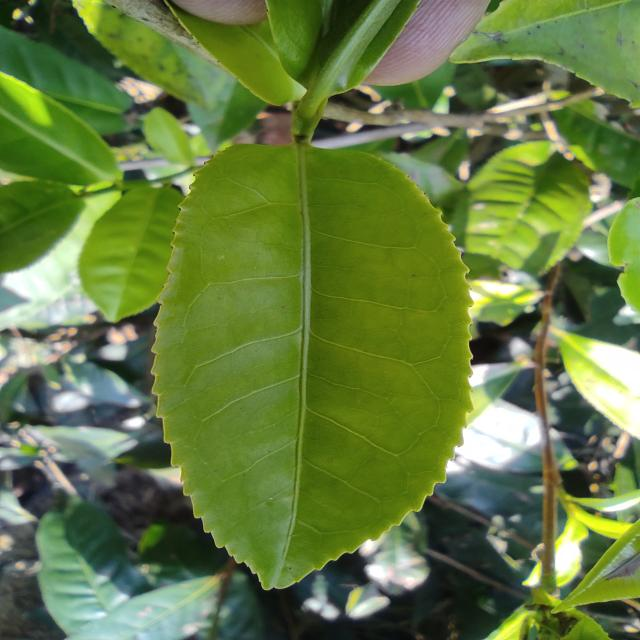Category C(4-7 days): (119, 88, 485, 606)
